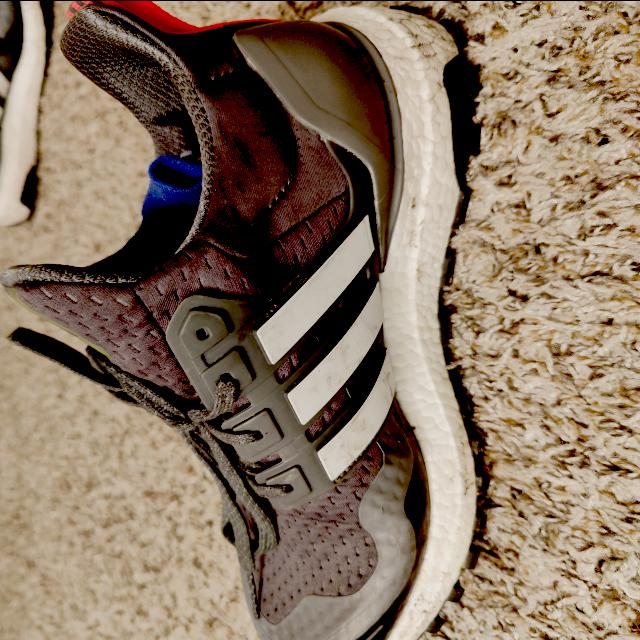black shoes: (1, 0, 497, 613)
